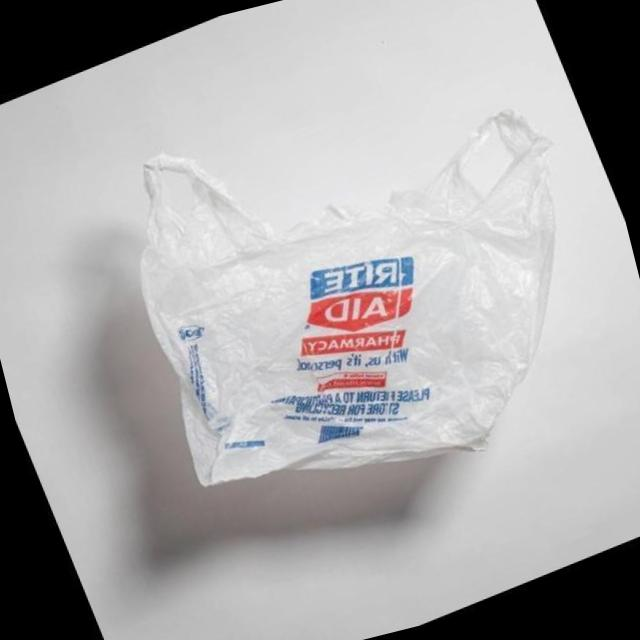KantongPlastik: (109, 60, 622, 522)
